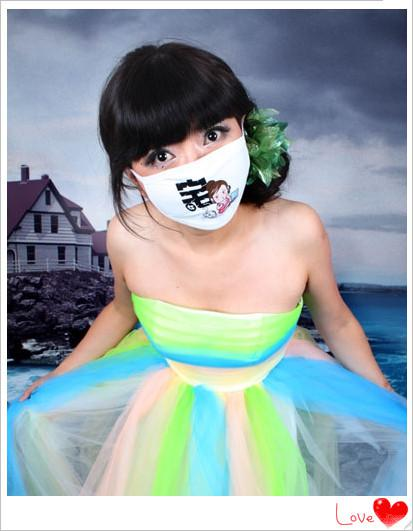OK: (135, 116, 247, 228)
